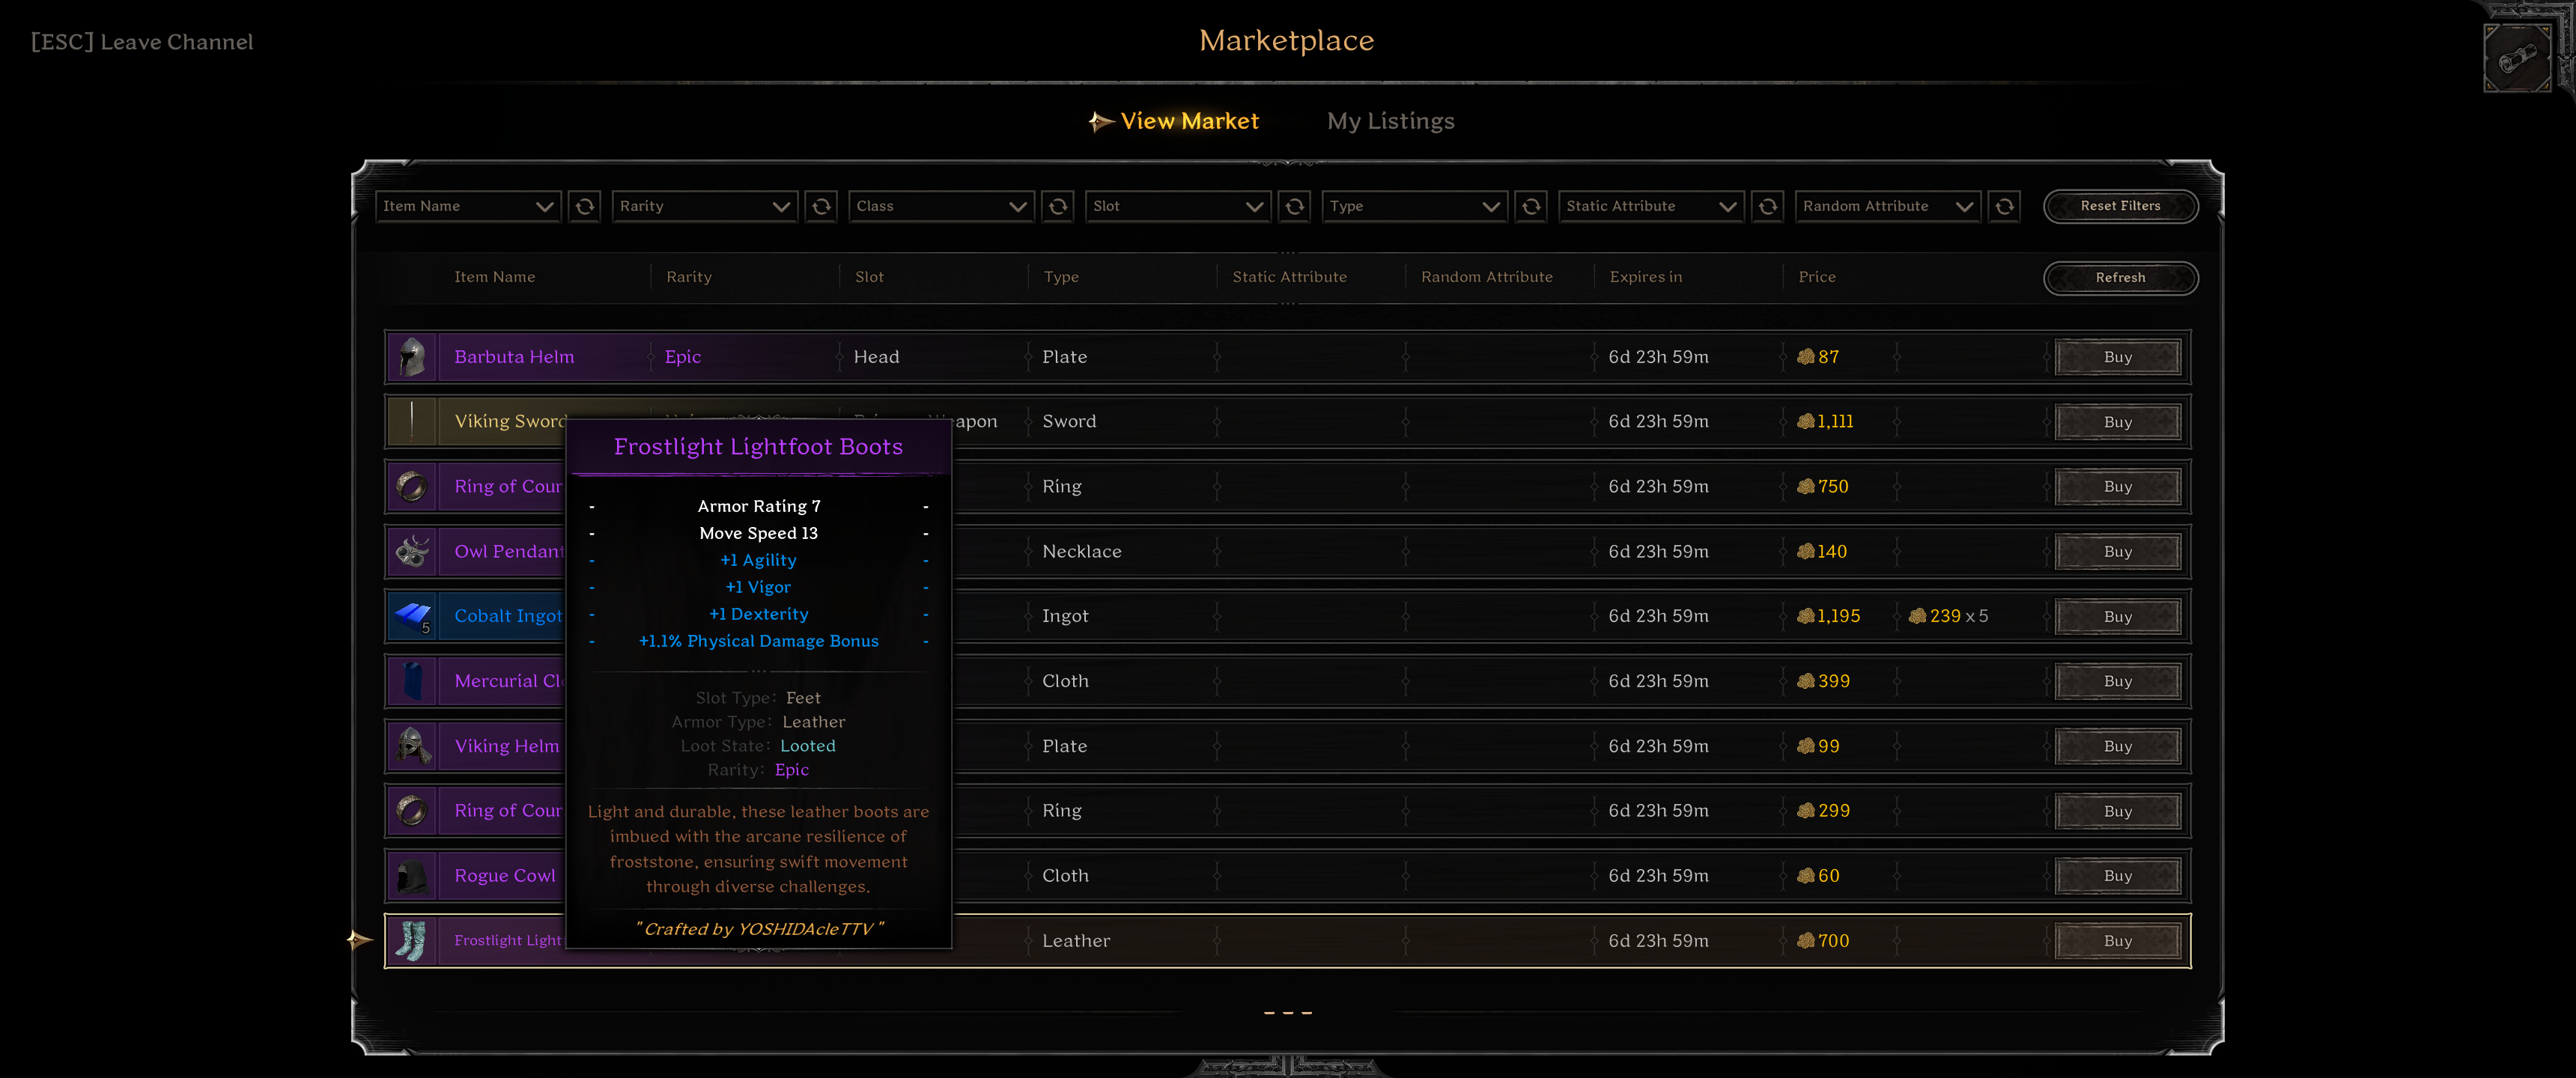Tooltip: (563, 416, 954, 951)
